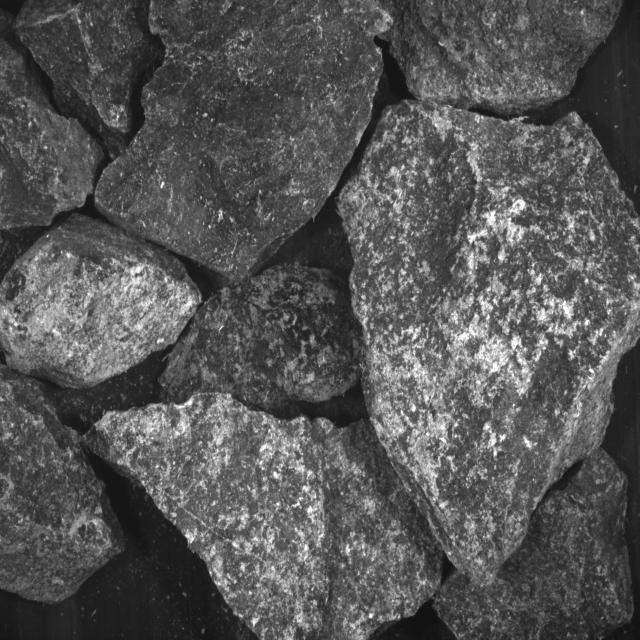Stones: (340, 102, 640, 583), (87, 393, 444, 640), (96, 1, 384, 283), (435, 450, 635, 640), (1, 215, 202, 389), (161, 265, 364, 419), (1, 366, 125, 604), (391, 1, 622, 116), (17, 1, 165, 159), (1, 10, 105, 230)
